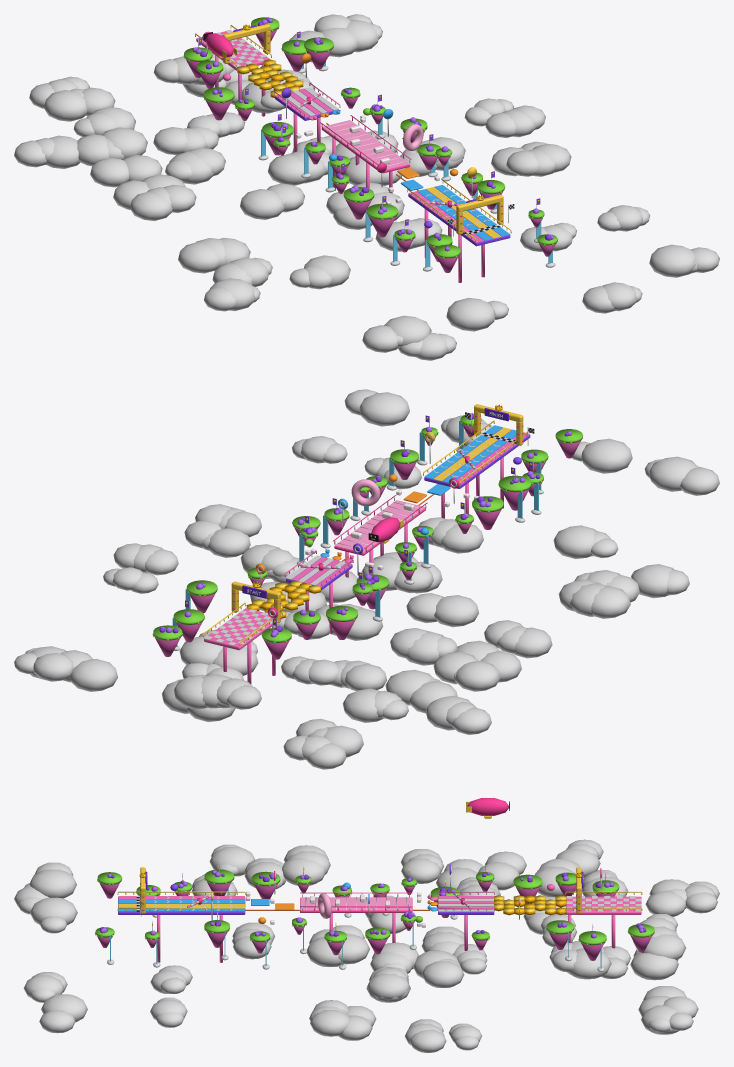
Rendered from bonbon.glb.
3 views of the same model, one above another, from view 1: azimuth 30°, elevation 25°; view 2: azimuth 150°, elevation 25°; view 3: azimuth 270°, elevation 25° (orthographic). The views are drawn at different scales.
Parts seen in each view (by area): view 1: ENV_jellytop, CLD41_0, CLD21_0, CLD39_0, CLD37_0, CLD38_0, CLD44_0, CLD0_0, CLD2_0, CLD29_2, CLD10_2, CLD13_2 (+25 smaller); view 2: CLD41_0, CLD21_0, CLD20_0, ENV_start_base, CLD39_0, CLD10_2, ENV_jellytop, CLD23_2, CLD2_0, CLD27_1, CLD38_0, CLD33_2 (+33 smaller); view 3: ENV_jellytop, CLD10_2, CLD25_2, ENV_start_base, CLD42_2, CLD41_0, CLD1_2, CLD5_2, CLD14_2, CLD38_2, CLD37_2, CLD27_1 (+32 smaller).
Boxes of the visible parts, bbox=[...] form: ENV_jellytop: bbox=[322, 120, 409, 169]; CLD41_0: bbox=[446, 297, 495, 331]; CLD21_0: bbox=[649, 244, 695, 277]; CLD39_0: bbox=[240, 189, 284, 219]; CLD37_0: bbox=[44, 90, 87, 121]; CLD38_0: bbox=[178, 241, 219, 273]; CLD44_0: bbox=[130, 191, 172, 221]; CLD0_0: bbox=[268, 153, 306, 185]; CLD2_0: bbox=[90, 157, 128, 187]; CLD29_2: bbox=[102, 127, 147, 158]; CLD10_2: bbox=[384, 315, 431, 348]; CLD13_2: bbox=[46, 135, 80, 168]; CLD41_0: bbox=[581, 438, 632, 473]; CLD21_0: bbox=[359, 392, 409, 426]; CLD20_0: bbox=[70, 658, 117, 691]; ENV_start_base: bbox=[204, 608, 281, 650]; CLD39_0: bbox=[434, 595, 478, 627]; CLD10_2: bbox=[649, 456, 698, 491]; ENV_jellytop: bbox=[334, 500, 425, 552]; CLD23_2: bbox=[553, 525, 595, 559]; CLD2_0: bbox=[455, 661, 500, 691]; CLD27_1: bbox=[631, 564, 673, 598]; CLD38_0: bbox=[591, 586, 630, 618]; CLD33_2: bbox=[342, 688, 383, 722]; ENV_jellytop: bbox=[300, 897, 412, 910]; CLD10_2: bbox=[29, 869, 76, 898]; CLD25_2: bbox=[630, 952, 678, 980]; ENV_start_base: bbox=[566, 896, 641, 914]; CLD42_2: bbox=[422, 961, 464, 987]; CLD41_0: bbox=[30, 897, 77, 925]; CLD1_2: bbox=[367, 973, 410, 1000]; CLD5_2: bbox=[567, 948, 611, 979]; CLD14_2: bbox=[310, 1010, 349, 1036]; CLD38_2: bbox=[282, 857, 326, 885]; CLD37_2: bbox=[645, 891, 686, 916]; CLD27_1: bbox=[209, 847, 254, 876].
Size of the model in its own units: 152 by 47.23 by 225.
